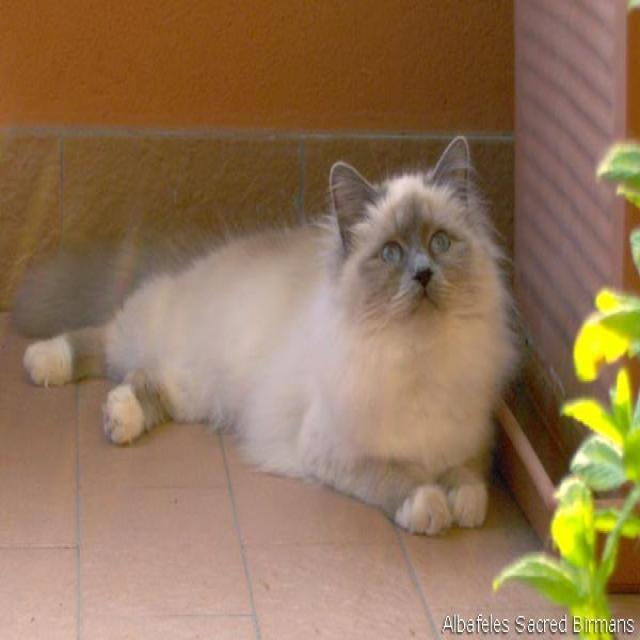Birman: (325, 120, 504, 362)
